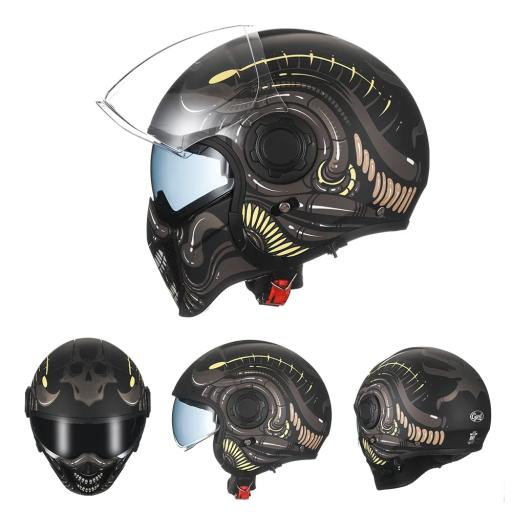helmet-detection: (102, 12, 438, 314)
